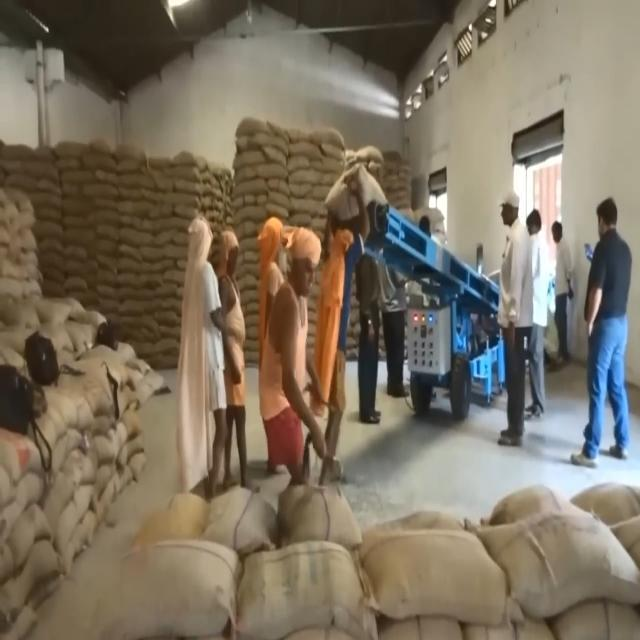gunny_bag: (469, 511, 640, 626), (353, 524, 514, 628), (84, 540, 242, 640), (232, 539, 380, 640), (0, 532, 67, 620), (276, 482, 364, 548), (202, 485, 280, 557), (38, 446, 95, 534), (326, 157, 388, 226), (2, 502, 51, 584), (0, 472, 47, 550), (1, 426, 45, 504), (54, 482, 98, 554), (20, 290, 74, 322), (234, 113, 288, 141), (142, 188, 200, 214), (3, 161, 60, 183), (308, 127, 356, 148), (115, 222, 153, 248), (120, 298, 163, 320), (112, 140, 148, 166), (115, 256, 167, 274), (49, 140, 90, 162), (234, 176, 274, 198), (258, 142, 294, 164), (114, 144, 150, 166), (234, 206, 273, 226), (287, 199, 330, 217), (84, 180, 122, 200), (61, 222, 98, 242), (4, 144, 38, 164), (170, 150, 202, 170), (234, 153, 269, 170), (59, 198, 96, 214), (60, 274, 92, 292), (155, 218, 195, 232), (286, 154, 315, 170)
